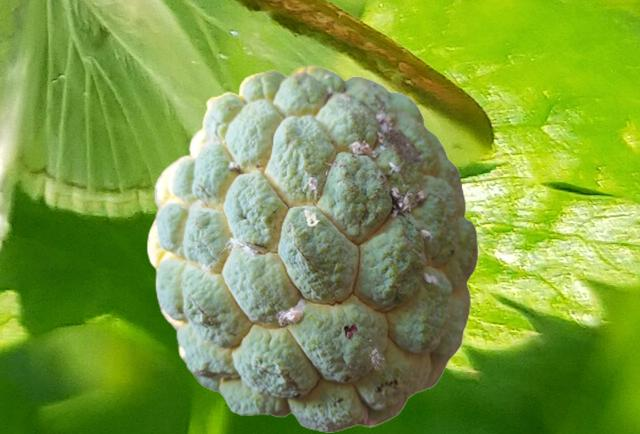atis: (146, 65, 477, 431)
